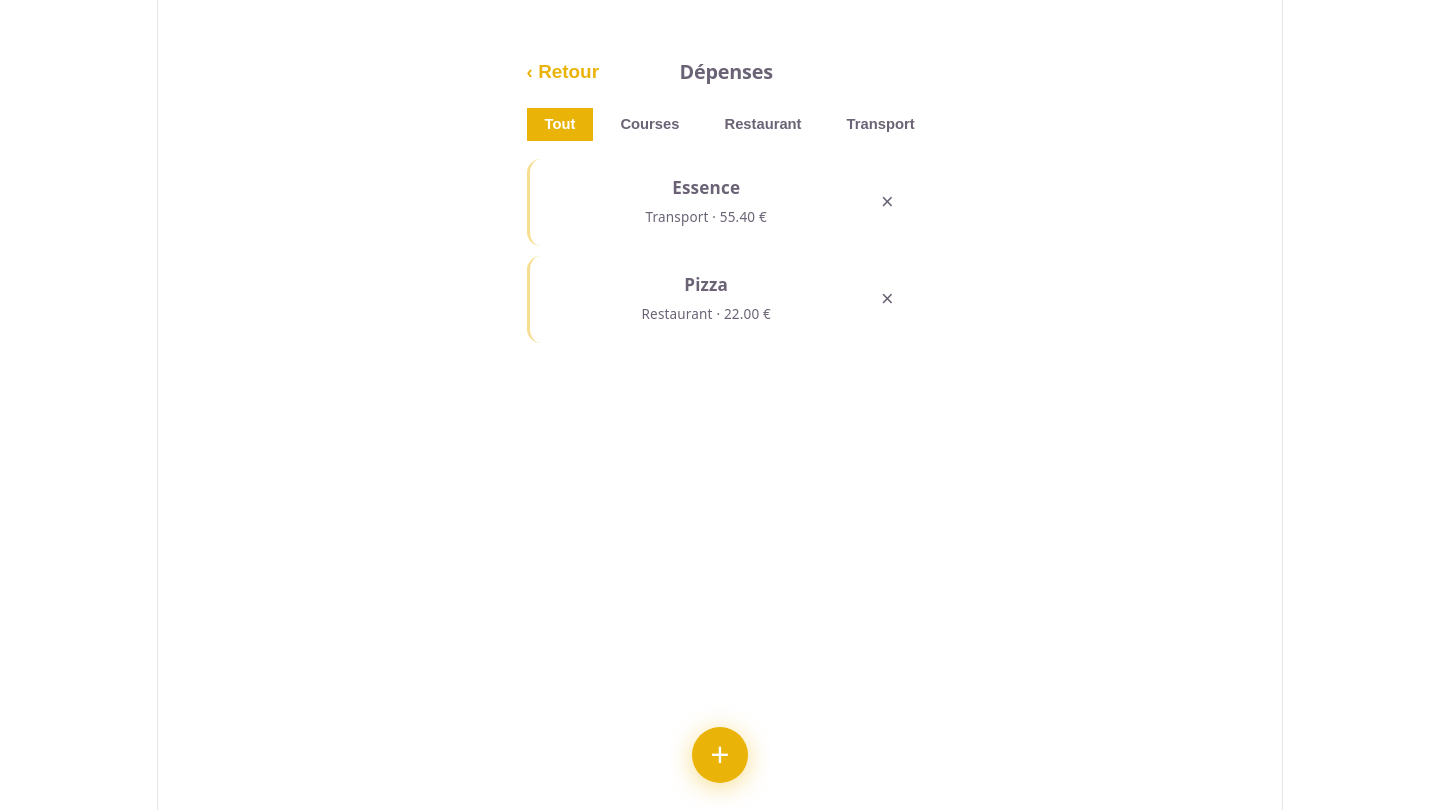
DepensesPage › filters by category when pill is clicked
Click the button "Transport" at (880, 124), box [828,108,932,141]
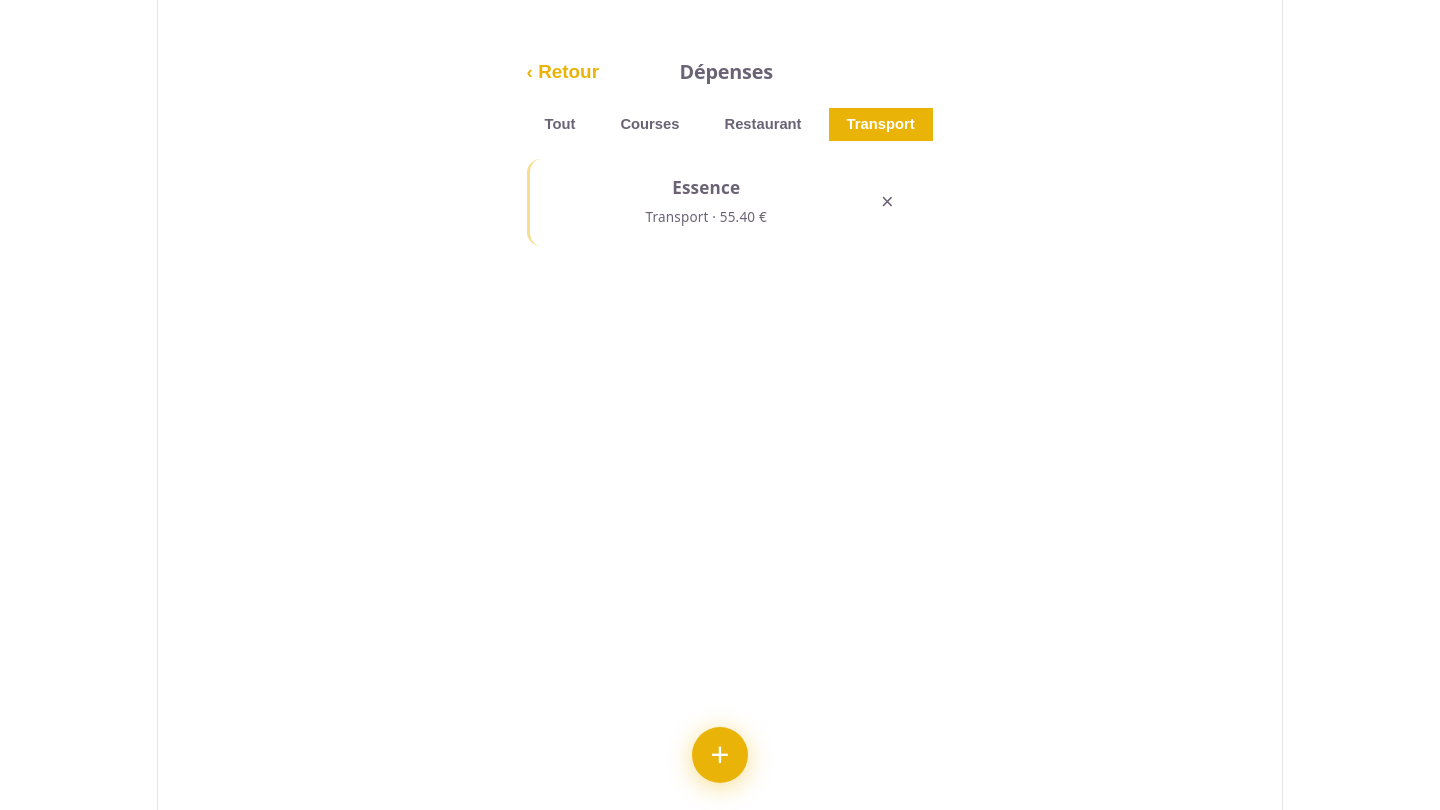
Check: the text "Essence" is shown, box [672,176,740,199]
Check: the text "Pizza" is gone
